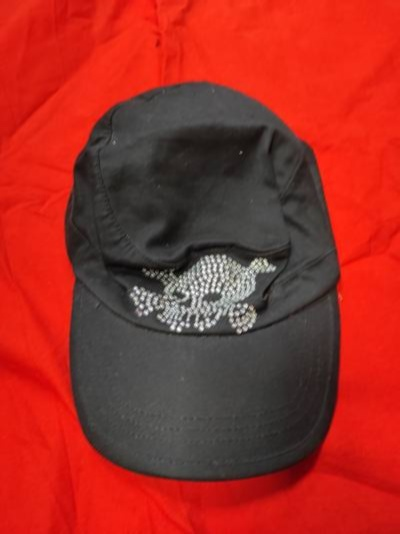Hat: (44, 46, 375, 493)
